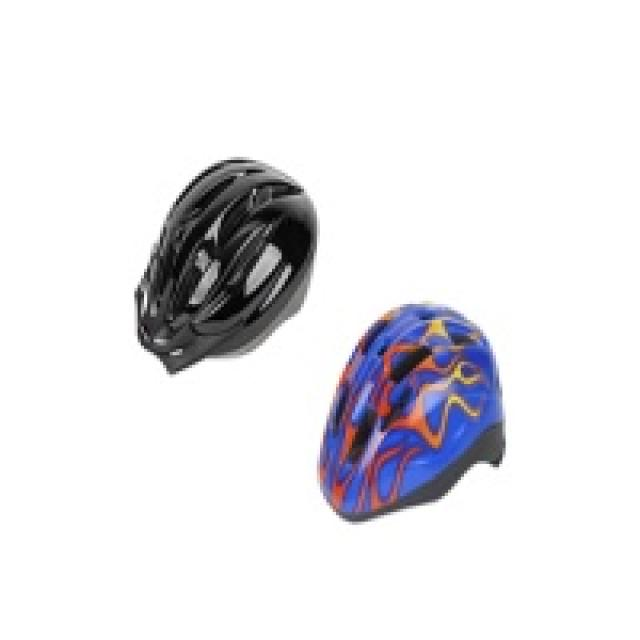Helmet: (320, 310, 502, 519), (135, 162, 316, 372)
